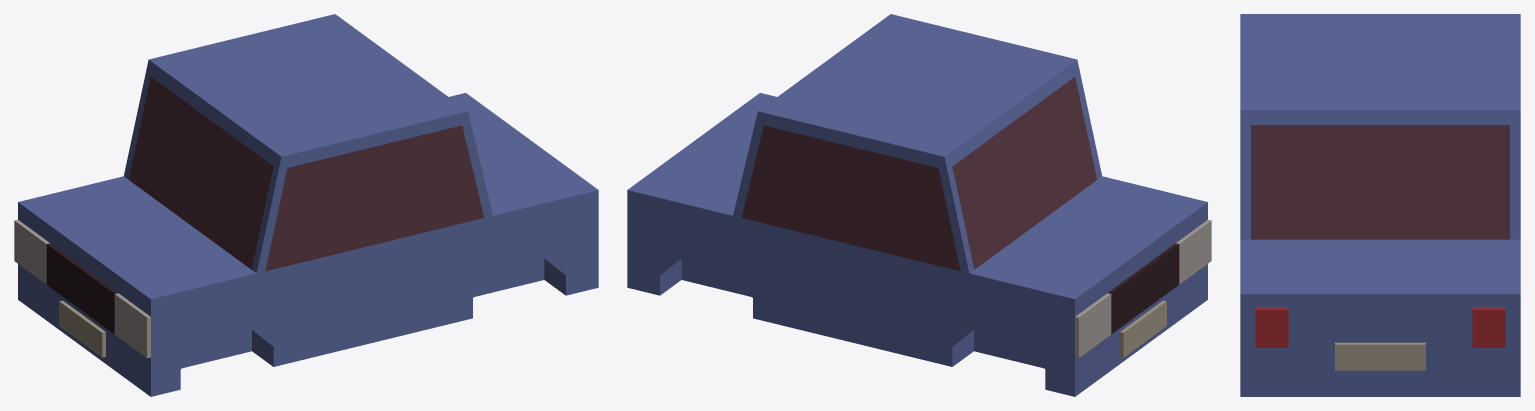
Rendered from Sedan_Blue.fbx.
3 renders of one model, left to right at view 1: azimuth 30°, elevation 25°; view 2: azimuth 150°, elevation 25°; view 3: azimuth 270°, elevation 25°, orthographic. The views are drawn at different scales.
Parts seen in each view (by area): view 1: Sedan_Blue, Sedan_Lights; view 2: Sedan_Blue, Sedan_Lights; view 3: Sedan_Blue, Sedan_Lights.
Part boxes in pixels (x1=…): Sedan_Blue: x1=18, y1=14, x2=598, y2=396; Sedan_Lights: x1=14, y1=219, x2=150, y2=358; Sedan_Blue: x1=627, y1=14, x2=1207, y2=396; Sedan_Lights: x1=1075, y1=219, x2=1211, y2=358; Sedan_Blue: x1=1240, y1=14, x2=1520, y2=396; Sedan_Lights: x1=1255, y1=307, x2=1505, y2=347.
Bounding box in the file's own units: 3.66 × 1.6 × 1.85.
